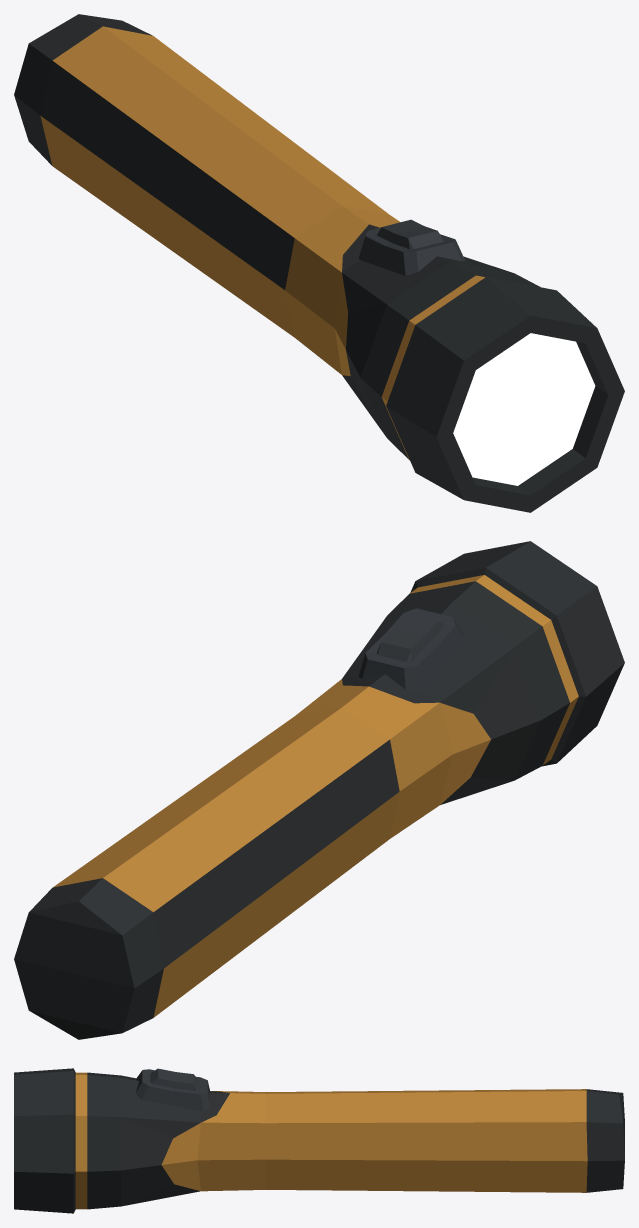
Rendered from flashlight.glb.
The picture shows the model from 3 angles, top to bottom: view 1: azimuth 30°, elevation 25°; view 2: azimuth 150°, elevation 25°; view 3: azimuth 270°, elevation 25°; orthographic projection. The views are drawn at different scales.
Parts seen in each view (by area): view 1: SM_Prop_Torch_01; view 2: SM_Prop_Torch_01; view 3: SM_Prop_Torch_01.
Part boxes in pixels (x1,y1,x2,y2): SM_Prop_Torch_01: [14, 14, 624, 512]; SM_Prop_Torch_01: [14, 541, 624, 1039]; SM_Prop_Torch_01: [14, 1068, 624, 1213].
Bounding box in the file's own units: 0.0754 × 0.0754 × 0.2982.
1 material, 1 textured.
